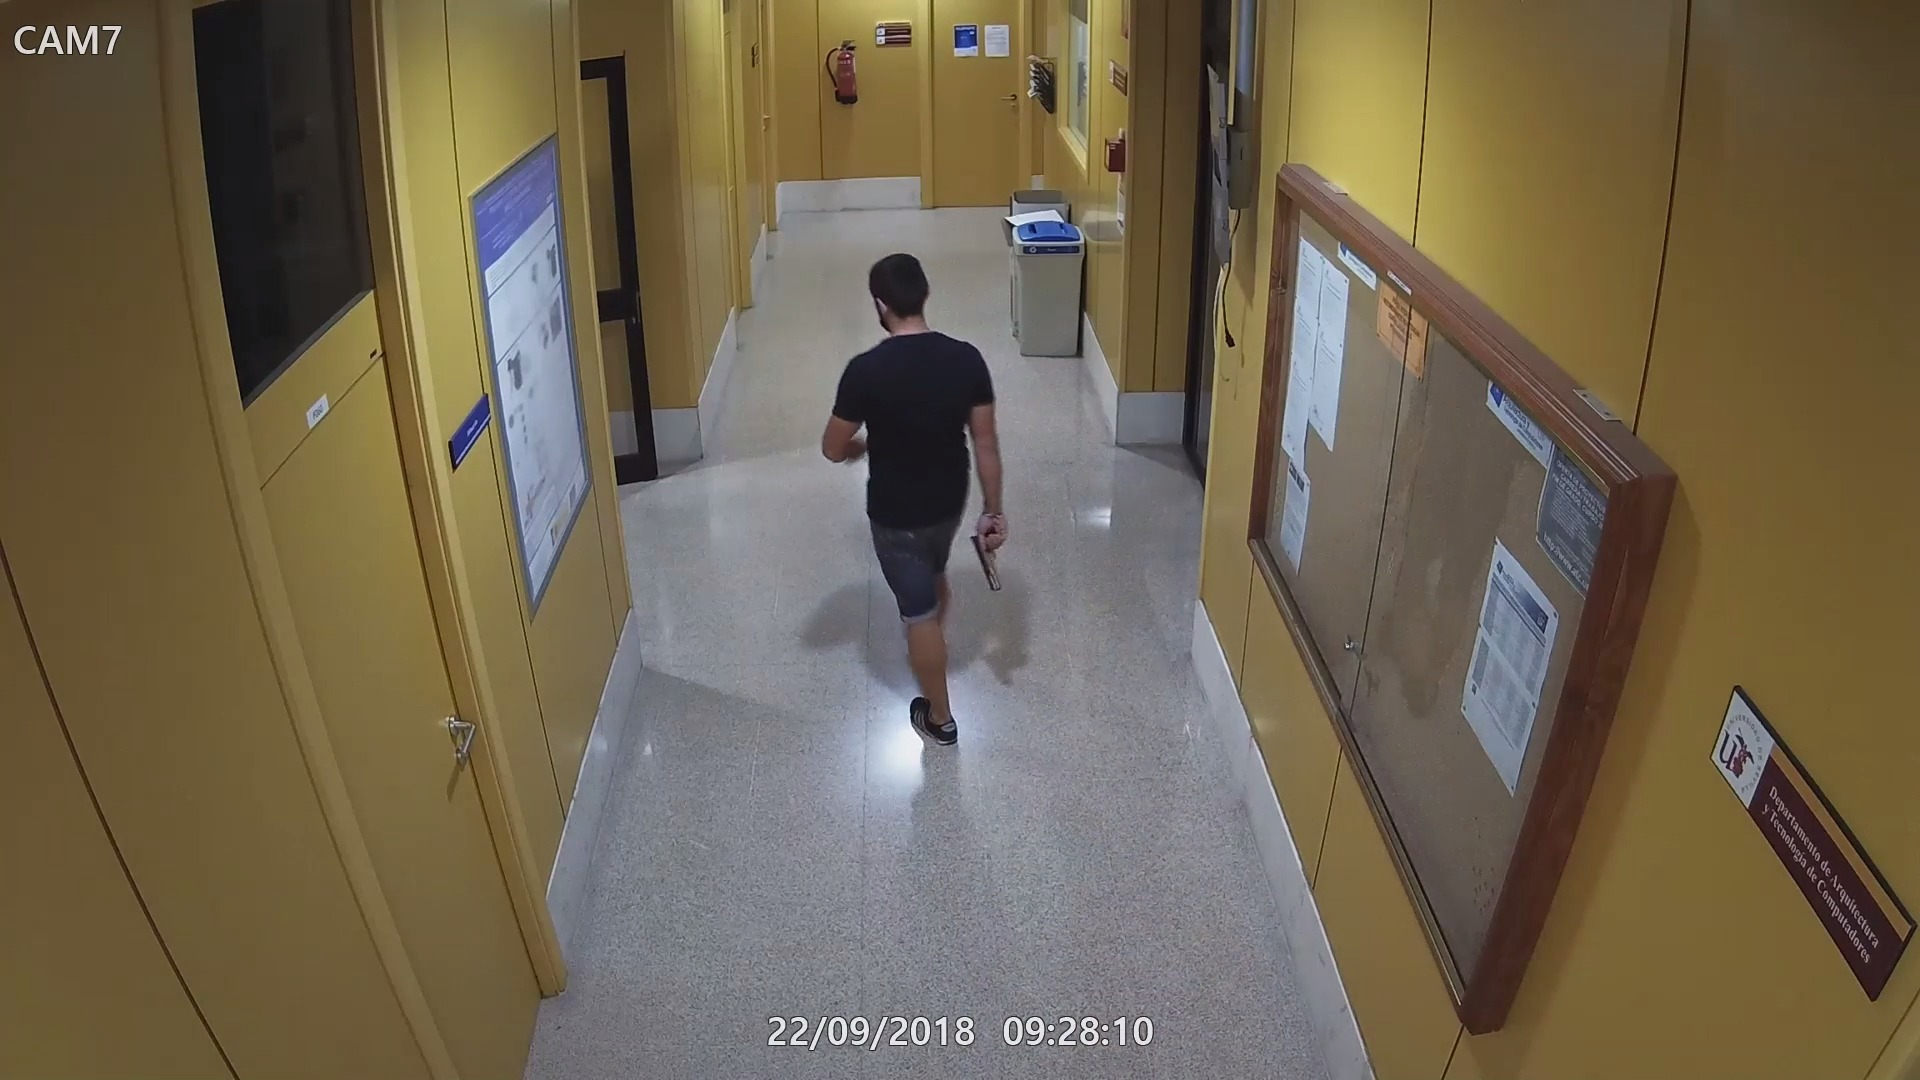Handgun: (963, 524, 1006, 588)
